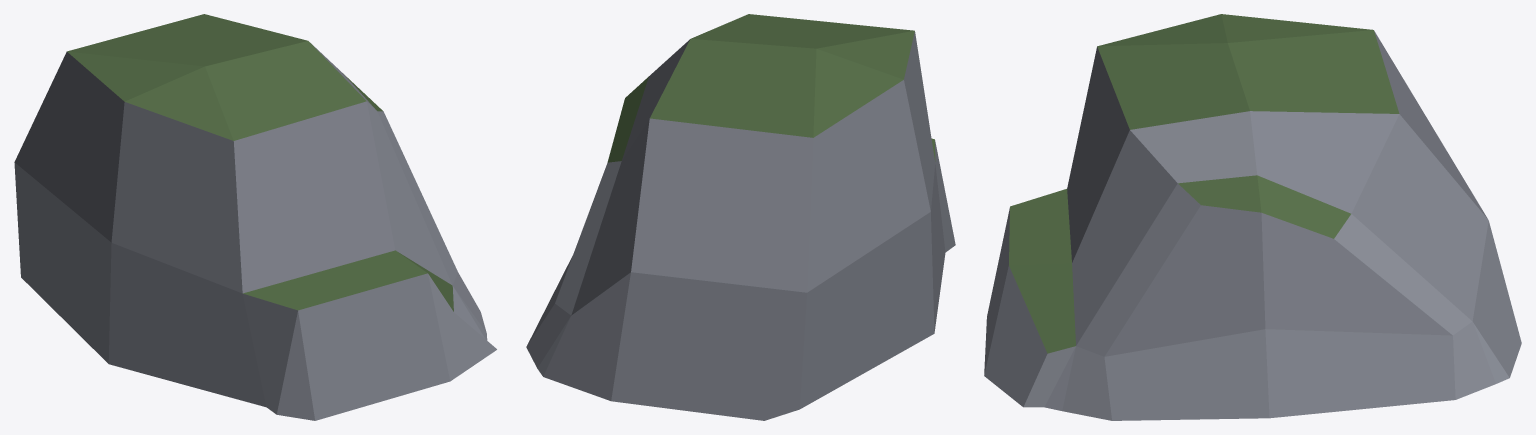
File: Rock Moss 5.glb
3 renders of one model, left to right at view 1: azimuth 30°, elevation 25°; view 2: azimuth 150°, elevation 25°; view 3: azimuth 270°, elevation 25°, orthographic. The views are drawn at different scales.
Parts seen in each view (by area): view 1: Rock_Moss_5; view 2: Rock_Moss_5; view 3: Rock_Moss_5.
Boxes of the visible parts, <box> form: Rock_Moss_5: <box>14,14,496,420</box>; Rock_Moss_5: <box>526,14,955,420</box>; Rock_Moss_5: <box>984,14,1521,420</box>.
Size of the model in its own units: 0.6632 by 0.5767 by 0.9148.
